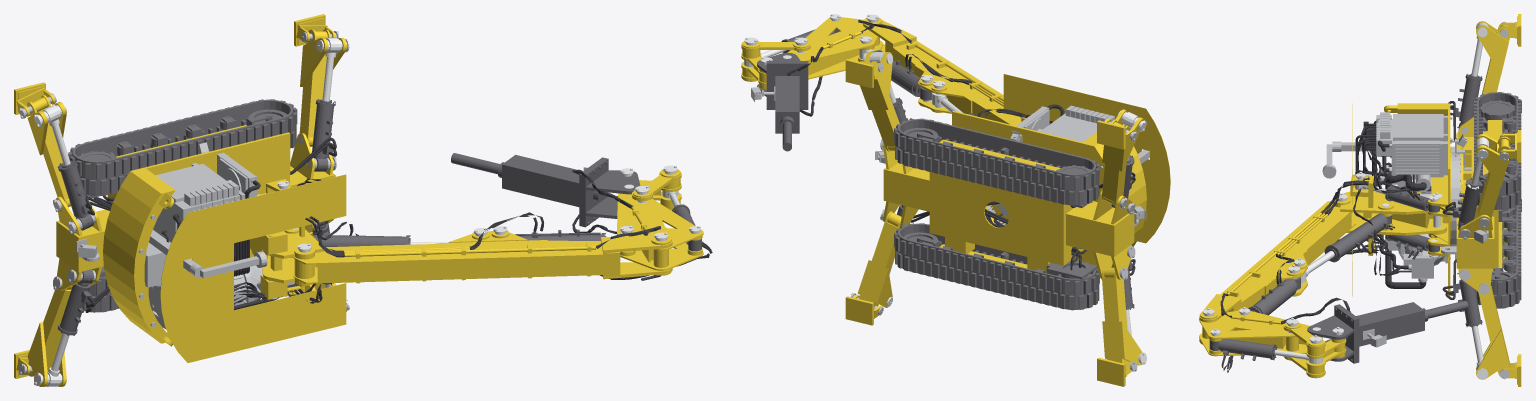
Rendered from azm330.glb.
The picture shows the model from 3 angles, left to right: view 1: azimuth 30°, elevation 25°; view 2: azimuth 150°, elevation 25°; view 3: azimuth 270°, elevation 25°; orthographic projection. The views are drawn at different scales.
Parts seen in each view (by area): view 1: yellow, dark, track, light, hose, chrome; view 2: yellow, track, dark, light, chrome, hose; view 3: yellow, dark, light, track, hose, chrome.
Part boxes in pixels (x1=…): yellow: x1=14, y1=14, x2=703, y2=386; dark: x1=57, y1=99, x2=703, y2=335; track: x1=68, y1=99, x2=297, y2=312; light: x1=18, y1=31, x2=587, y2=374; hose: x1=85, y1=137, x2=712, y2=312; chrome: x1=34, y1=38, x2=700, y2=386; yellow: x1=741, y1=17, x2=1170, y2=386; track: x1=894, y1=118, x2=1099, y2=310; dark: x1=757, y1=28, x2=1134, y2=309; light: x1=751, y1=63, x2=1149, y2=371; chrome: x1=744, y1=14, x2=1146, y2=364; hose: x1=786, y1=19, x2=1135, y2=275; yellow: x1=1199, y1=14, x2=1521, y2=386; dark: x1=1209, y1=73, x2=1482, y2=363; light: x1=1322, y1=21, x2=1509, y2=379; track: x1=1474, y1=92, x2=1521, y2=308; hose: x1=1220, y1=101, x2=1477, y2=372; chrome: x1=1202, y1=22, x2=1488, y2=379.
Size of the model in its own units: 4793 by 2400 by 2869.
